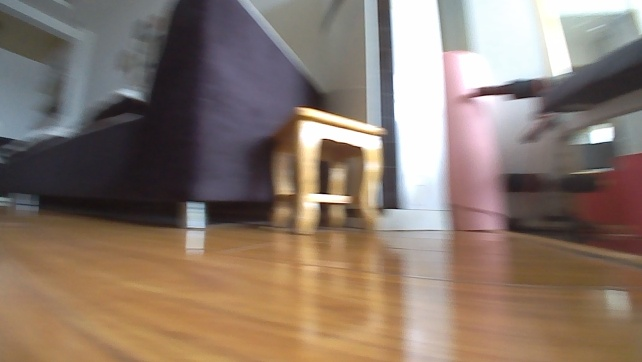sofa1: (0, 0, 324, 231)
